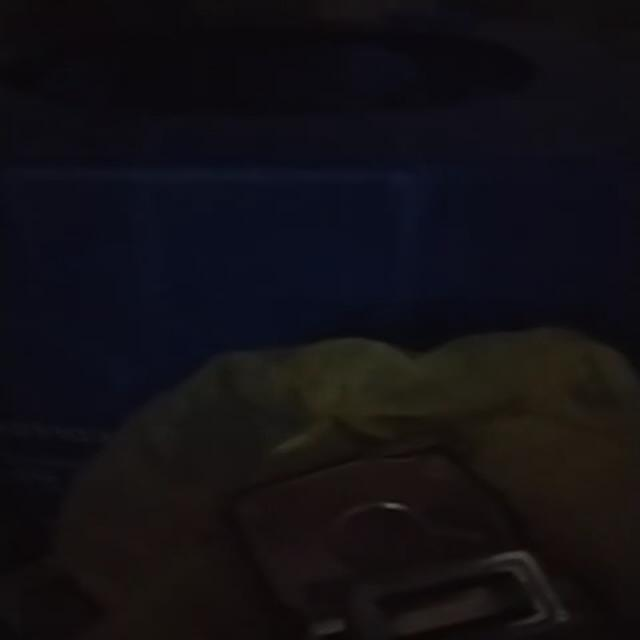bin: (0, 0, 638, 572)
metal: (228, 452, 577, 640)
